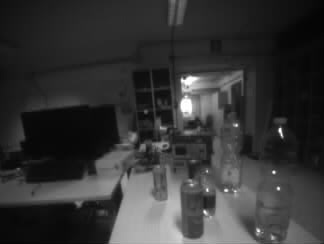Bottle: (258, 118, 291, 242), (222, 114, 240, 190), (198, 161, 215, 215)
Tin can: (181, 181, 203, 237), (153, 165, 167, 200)
